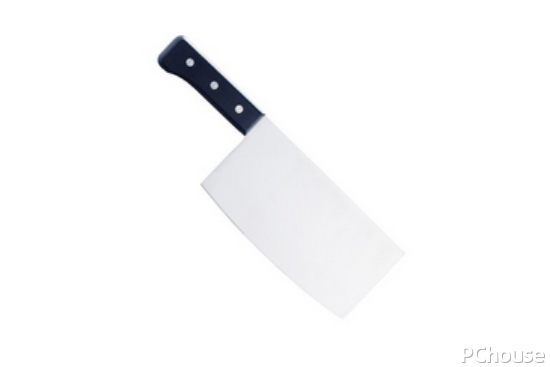knief: (153, 55, 412, 308)
